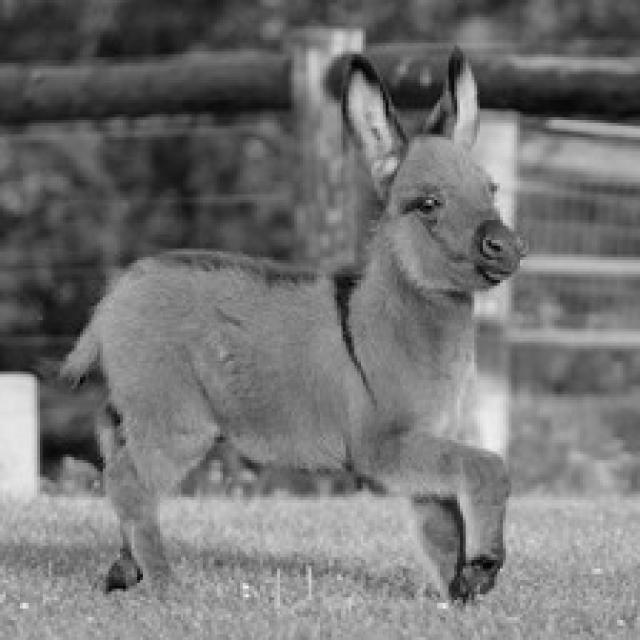Donkey: (43, 43, 526, 606)
